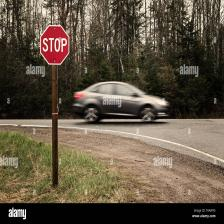Stop-sign: (38, 22, 72, 68)
